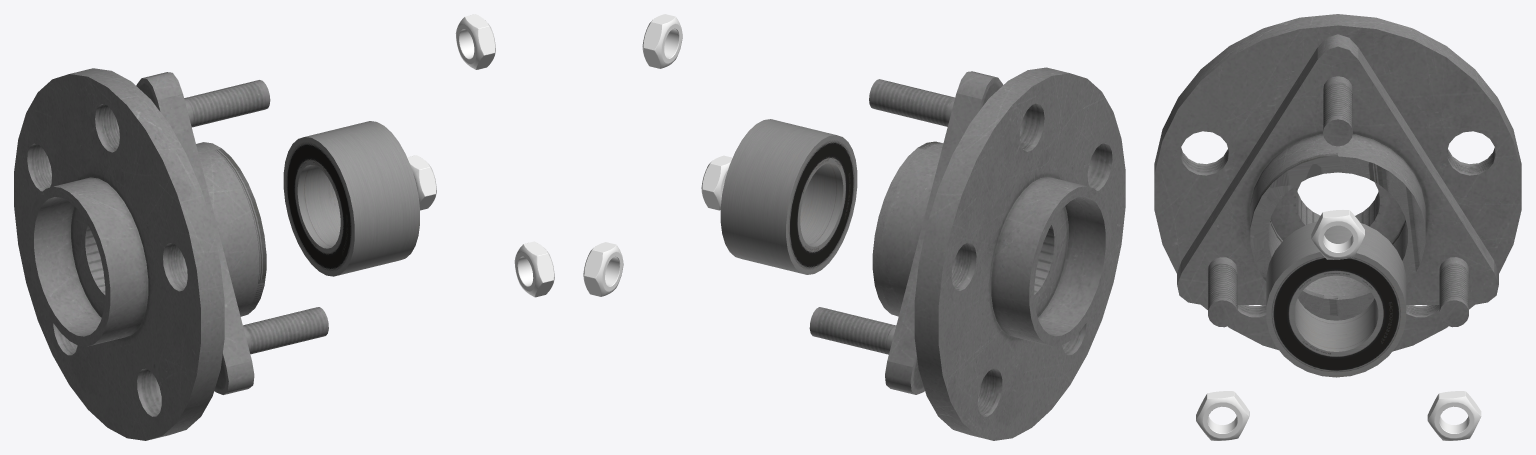
Rendered from hubInside.glb.
3 renders of one model, left to right at view 1: azimuth 30°, elevation 25°; view 2: azimuth 150°, elevation 25°; view 3: azimuth 270°, elevation 25°, orthographic.
Visible parts, largest first — view 1: piastaPrzod_1(0), lozyskoZwrotnicyPrzod_1(0), nakretkaDuza_1, Obj_nakretkaDuza_1, Obj_nakretkaDuza_2; view 2: piastaPrzod_1(0), lozyskoZwrotnicyPrzod_1(0), Obj_nakretkaDuza_2, Obj_nakretkaDuza_1, nakretkaDuza_1; view 3: piastaPrzod_1(0), lozyskoZwrotnicyPrzod_1(0), Obj_nakretkaDuza_1, Obj_nakretkaDuza_2, nakretkaDuza_1.
Boxes of the visible parts, box(x1,y1,x2,y2) form: piastaPrzod_1(0): box(14, 68, 328, 440); lozyskoZwrotnicyPrzod_1(0): box(283, 121, 419, 276); nakretkaDuza_1: box(514, 241, 554, 297); Obj_nakretkaDuza_1: box(455, 14, 495, 69); Obj_nakretkaDuza_2: box(407, 155, 436, 210); piastaPrzod_1(0): box(809, 67, 1125, 440); lozyskoZwrotnicyPrzod_1(0): box(720, 119, 857, 274); Obj_nakretkaDuza_2: box(583, 242, 623, 296); Obj_nakretkaDuza_1: box(642, 14, 682, 68); nakretkaDuza_1: box(701, 155, 732, 210); piastaPrzod_1(0): box(1154, 14, 1521, 351); lozyskoZwrotnicyPrzod_1(0): box(1266, 221, 1406, 377); Obj_nakretkaDuza_1: box(1311, 210, 1364, 259); Obj_nakretkaDuza_2: box(1427, 391, 1481, 440); nakretkaDuza_1: box(1196, 391, 1249, 440).
Size of the model in its own units: 0.00556 by 0.00435 by 0.00433.
3 materials, 2 textured.
